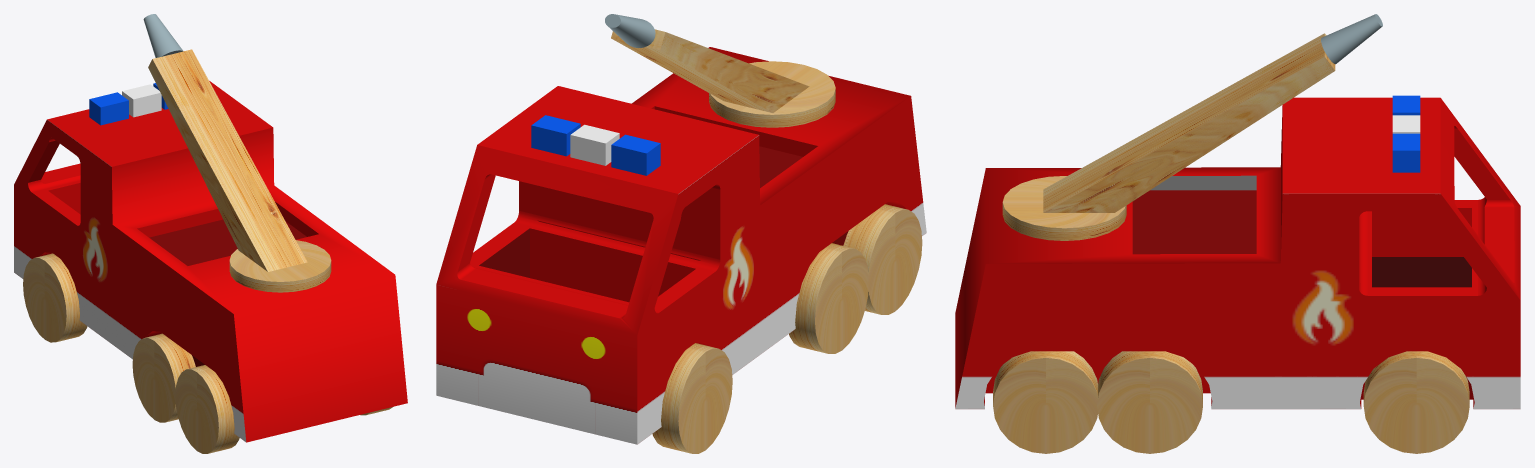
File: firetruck.dae
The picture shows the model from 3 angles, left to right: view 1: azimuth 30°, elevation 25°; view 2: azimuth 150°, elevation 25°; view 3: azimuth 270°, elevation 25°; orthographic projection. The views are drawn at different scales.
Visible parts, largest first — view 1: Box01, none, Cylinder12, Cylinder01, Cylinder10, tmp, Box05, Box04, emitter; view 2: Box01, Cylinder10, Cylinder01, none, Cylinder12, tmp, Box05, Box04, Box02, emitter; view 3: Box01, none, Cylinder09, Cylinder11, Cylinder08, tmp, emitter, Box02, Box05.
Part boxes in pixels (x1,y1,x2,y2): Box01: (14,81,407,442); none: (148,49,307,271); Cylinder12: (175,365,239,453); Cylinder01: (23,253,87,342); Cylinder10: (132,333,195,422); tmp: (229,240,331,292); Box05: (89,92,128,125); Box04: (122,84,161,117); emitter: (143,14,183,57); Box01: (436,47,926,444); Cylinder10: (789,243,868,353); Cylinder01: (652,343,732,453); none: (611,29,809,112); Cylinder12: (843,204,922,314); tmp: (709,61,835,127); Box05: (611,134,660,175); Box04: (570,124,619,165); Box02: (531,115,580,156); emitter: (605,14,655,47); Box01: (955,97,1520,409); none: (1043,33,1335,212); Cylinder09: (1097,351,1202,453); Cylinder11: (993,351,1097,453); Cylinder08: (1363,351,1469,453); tmp: (1002,176,1126,240); emitter: (1321,14,1382,64); Box02: (1392,133,1420,172); Box05: (1392,95,1420,115).
Bounding box in the file's own units: 53.33 × 118 × 88.74.
11 materials, 4 textured.
